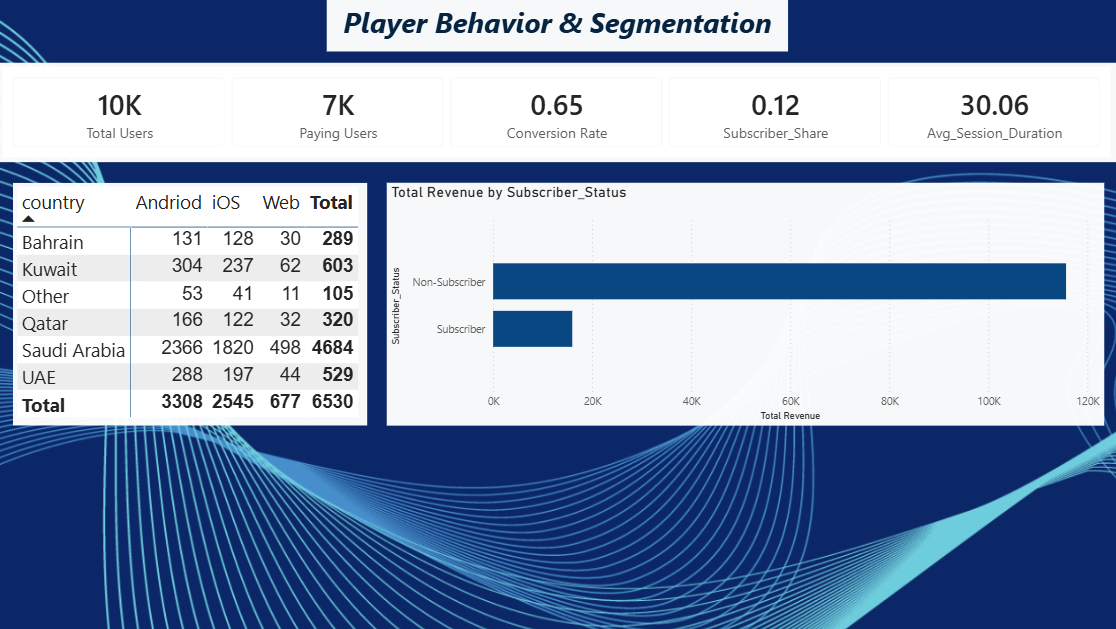

This screenshot's page, from the dashboard's own definition file:
{"tool":"powerbi","page":{"name":"Player Behavior & Segmentation","canvas":[1280,720],"ordinal":2},"visuals":[{"type":"textbox","box":[376.2,0,527.5,60],"z":0},{"type":"pivotTable","fields":{"Columns":["dim_users.device"],"Rows":["dim_users.country"],"Values":["_Measures.Paying Users"]},"box":[17.5,210,405,277.5],"z":1000},{"type":"barChart","fields":{"Category":["dim_users.Subscriber_Status"],"Y":["_Measures.Total Revenue"]},"box":[443.8,210,820,277.5],"z":2000},{"type":"cardVisual","fields":{"Data":["_Measures.Total Users","_Measures.Paying Users","_Measures.Conversion Rate","_Measures.Subscriber_Share","_Measures.Avg_Session_Duration"]},"box":[0,72.5,1280,113.8],"z":3000}]}

Visuals, with their boxes in screenshot pixels (x1, y1, x2, y2), scaled from the page's 1280x720 canvas onto the 1116x629 screenshot:
textbox: rect(328, 0, 788, 52)
pivotTable - dim_users.device x dim_users.country: rect(15, 183, 368, 426)
barChart - dim_users.Subscriber_Status x _Measures.Total Revenue: rect(387, 183, 1102, 426)
cardVisual - _Measures.Total Users x _Measures.Paying Users: rect(0, 63, 1115, 163)
